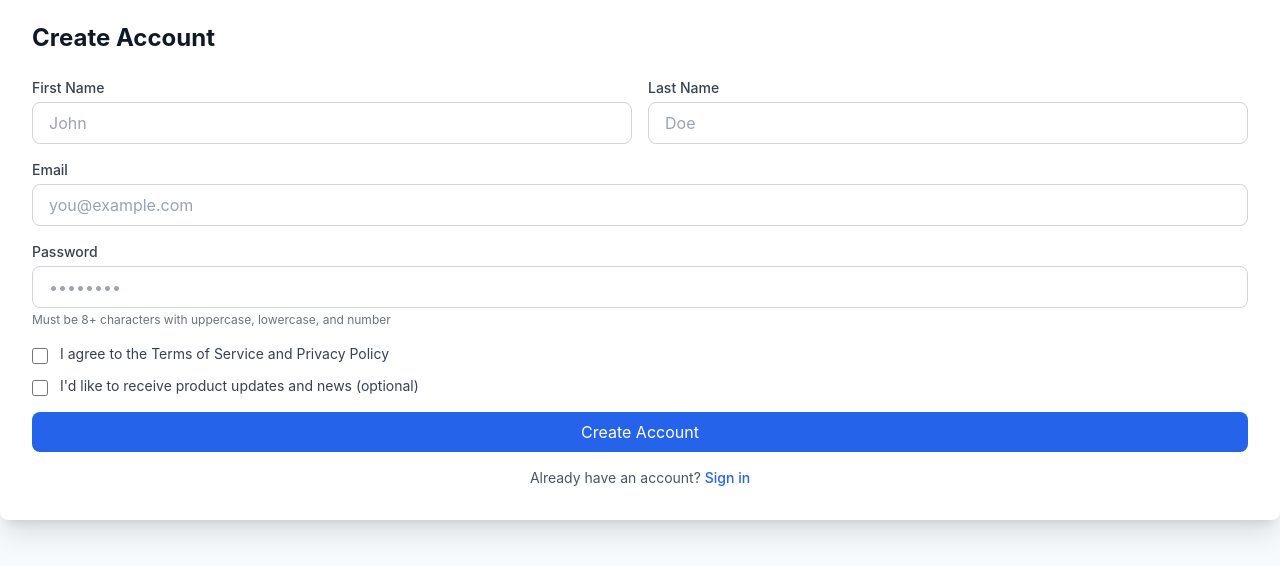
Scenario: RegisterPage › displays field-specific error messages with proper ARIA attributes
The width and height of the screenshot is (1280, 566).
# Touch the field to trigger validation
Click the field labelled "First Name". click: click(332, 123)
box: top-left (32, 102), bottom-right (632, 144)
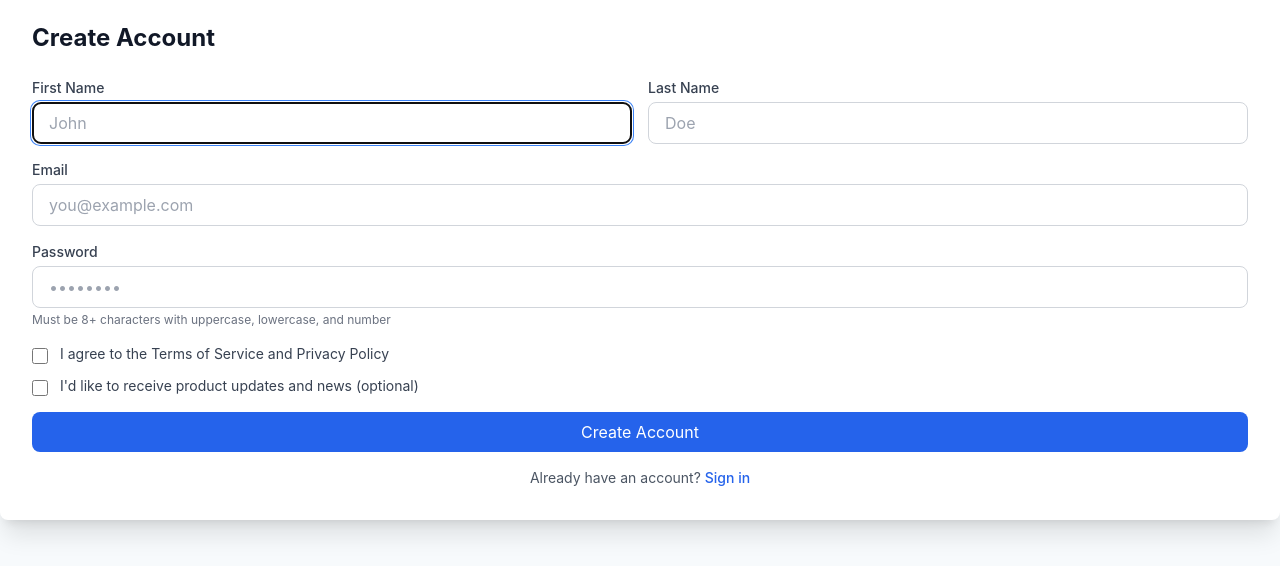
Click the button "Create Account". click: click(640, 432)
box: top-left (32, 412), bottom-right (1248, 452)
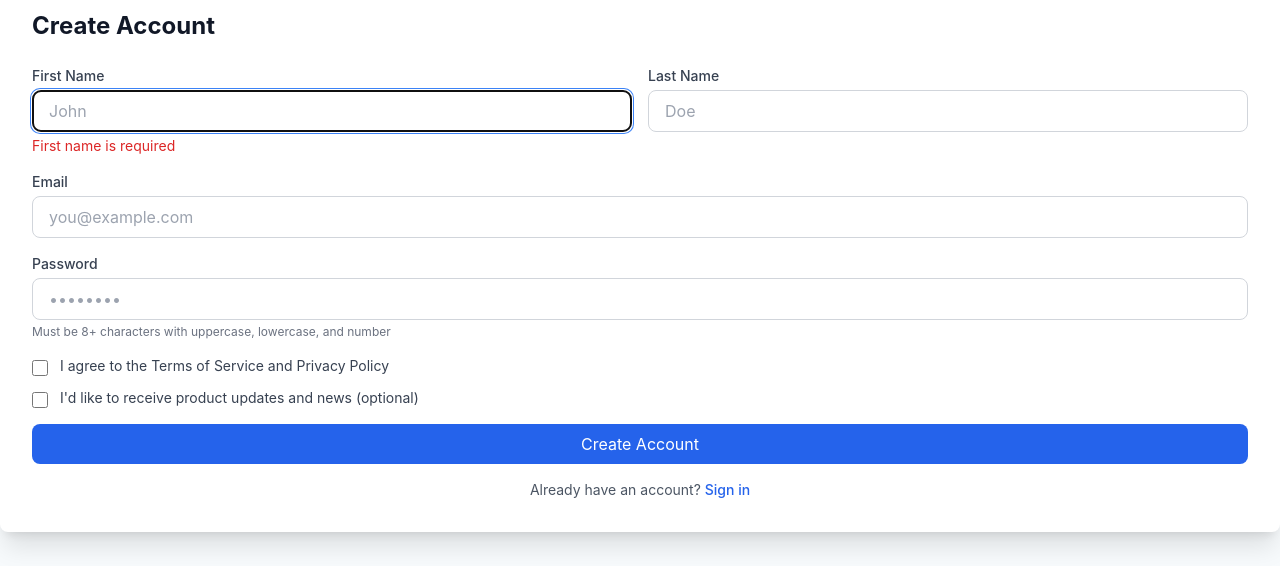
Result: the text "First name is required" is shown at top-left (32, 137), bottom-right (175, 154)
